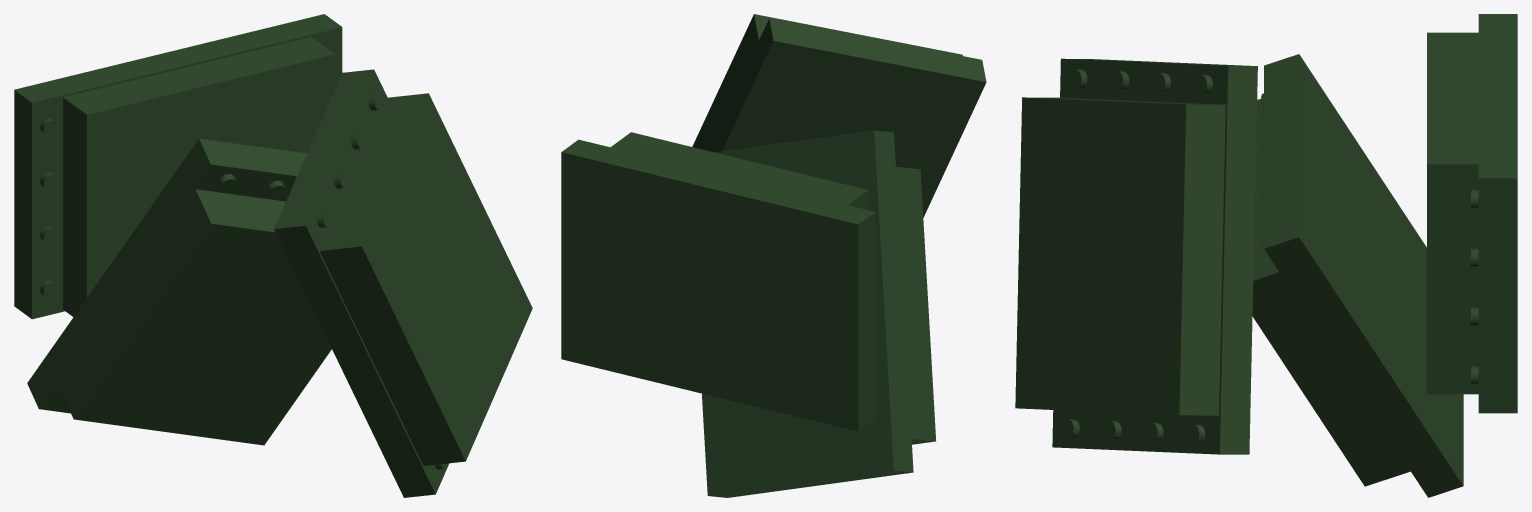
File: Era.obj
The picture shows the model from 3 angles, left to right: view 1: azimuth 30°, elevation 25°; view 2: azimuth 150°, elevation 25°; view 3: azimuth 270°, elevation 25°; orthographic projection. The views are drawn at different scales.
Visible parts, largest first — view 1: Body351; view 2: Body351; view 3: Body351.
Part boxes in pixels (bbox=[...]): Body351: bbox=[14, 14, 532, 497]; Body351: bbox=[561, 14, 986, 497]; Body351: bbox=[1015, 14, 1517, 497].
Bounding box in the file's own units: 18.33 × 19.49 × 19.38.
